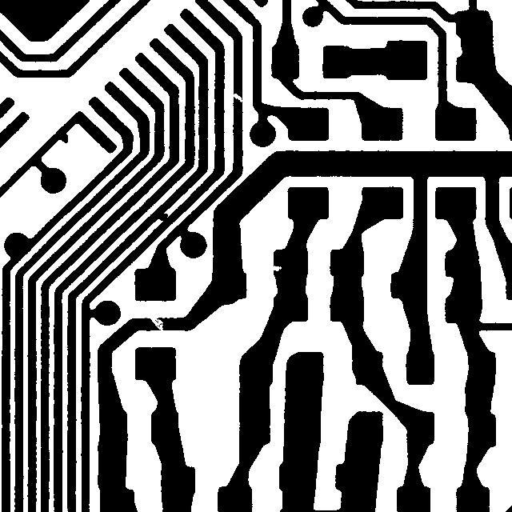mousebite: (262, 258, 289, 278)
open: (142, 309, 170, 340), (222, 85, 250, 110)
short: (147, 206, 175, 228)
spur: (50, 124, 75, 150)
